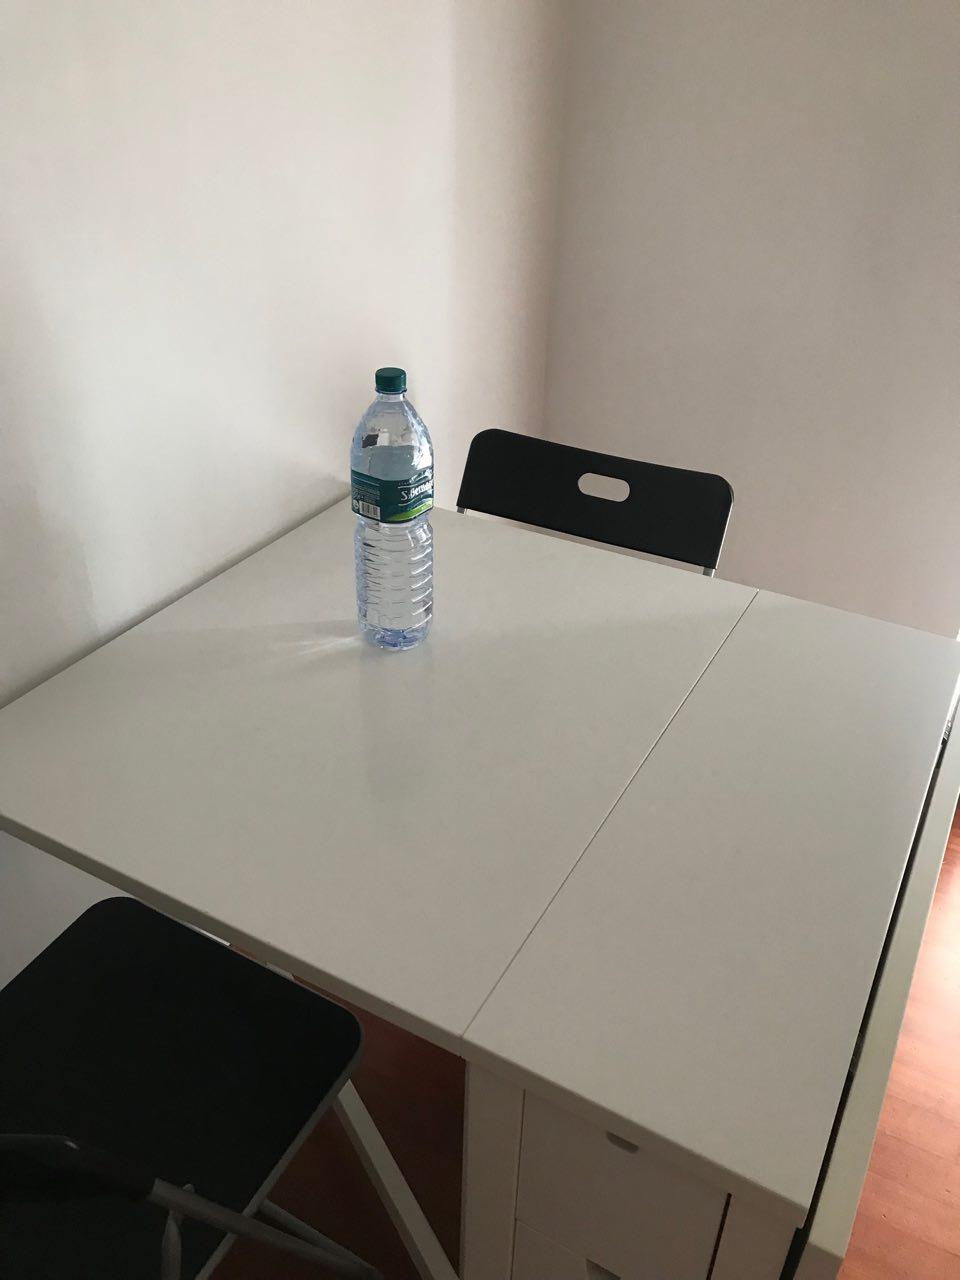san_bernardo: (350, 366, 435, 651)
